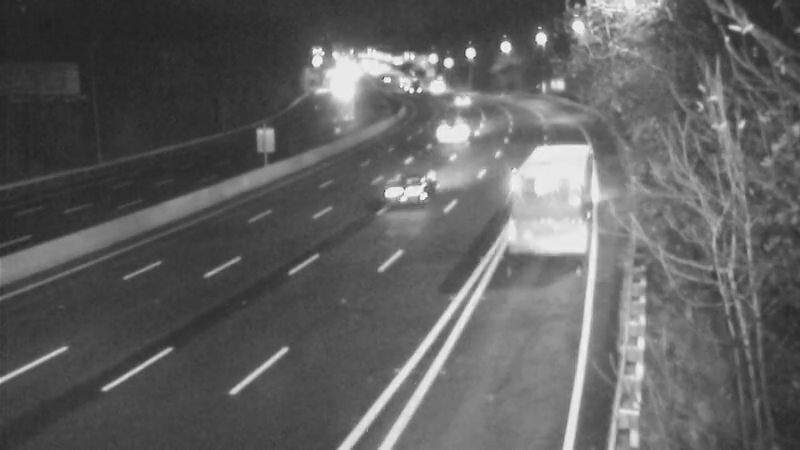vehicle: (379, 145, 459, 225), (503, 151, 583, 231), (437, 81, 487, 131), (422, 102, 472, 152)
